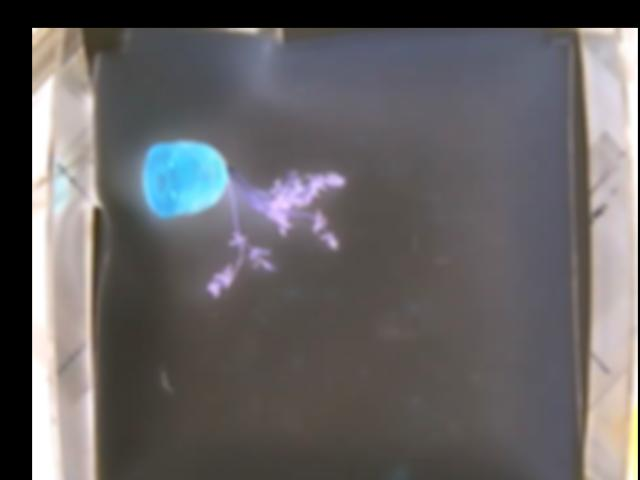Carrot: (143, 141, 349, 298)
